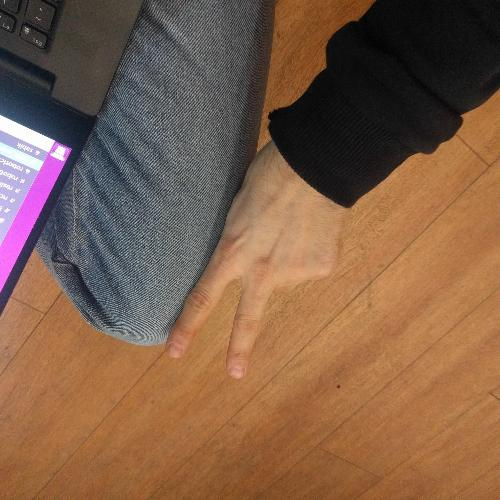scissors: (161, 128, 349, 384)
